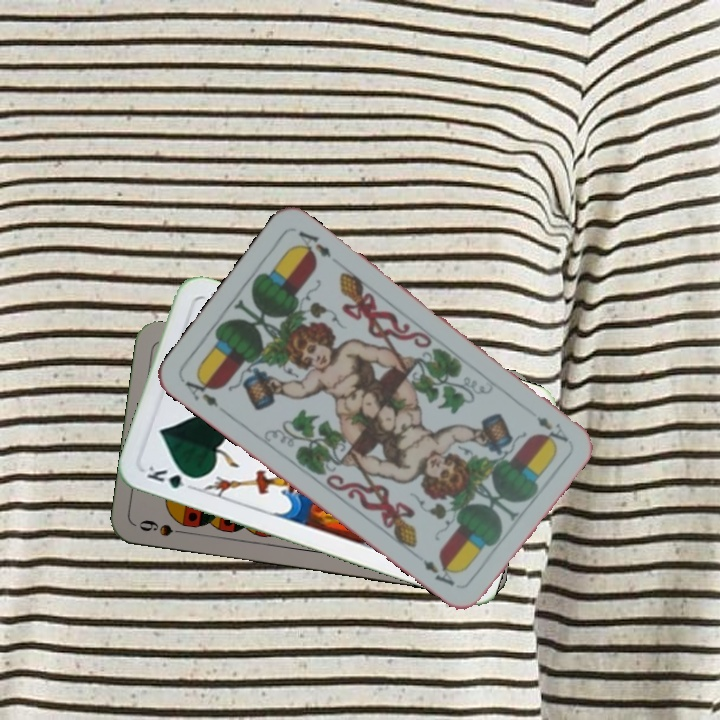EA: (181, 372, 221, 409), (532, 412, 572, 445)
GK: (142, 461, 200, 493)
S9: (135, 516, 193, 539)
